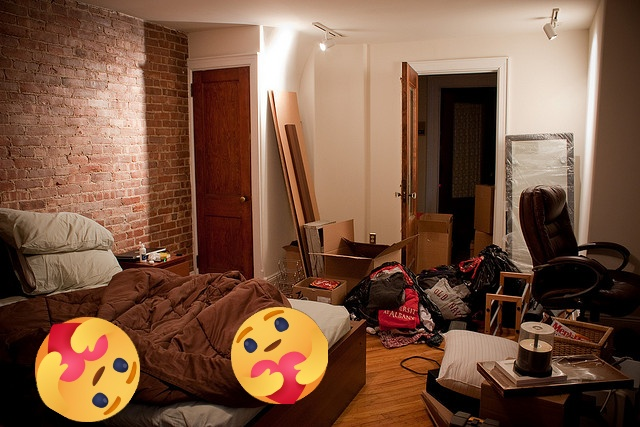care: (35, 317, 140, 422), (231, 307, 328, 404)
